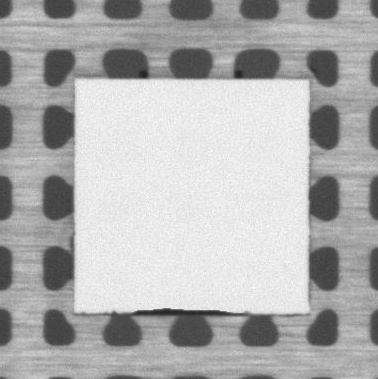DIE_BROKEN: (134, 302, 250, 317)
